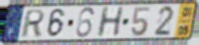2: (153, 5, 176, 37)
5: (131, 6, 152, 38)
6: (75, 6, 96, 40), (45, 8, 67, 39)
H: (95, 6, 126, 40)
R: (19, 9, 47, 39)
